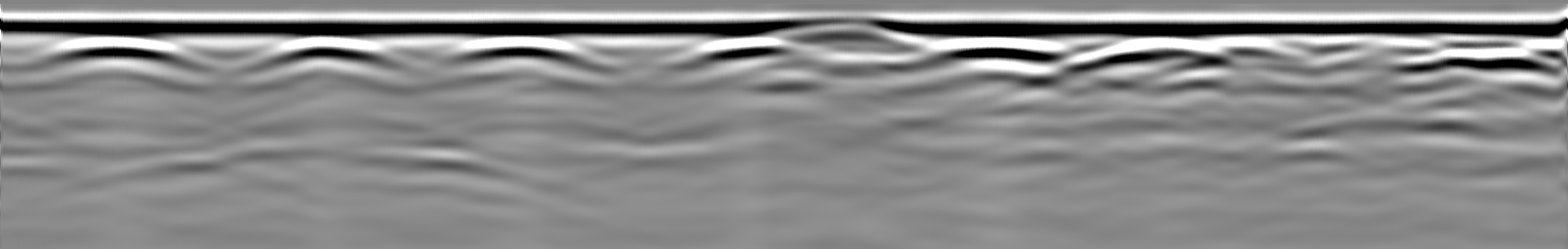pipe: (769, 16, 939, 62)
steel: (237, 35, 419, 81), (38, 34, 212, 80), (1064, 37, 1238, 83), (436, 35, 611, 76), (930, 38, 1072, 76), (658, 35, 782, 75)
